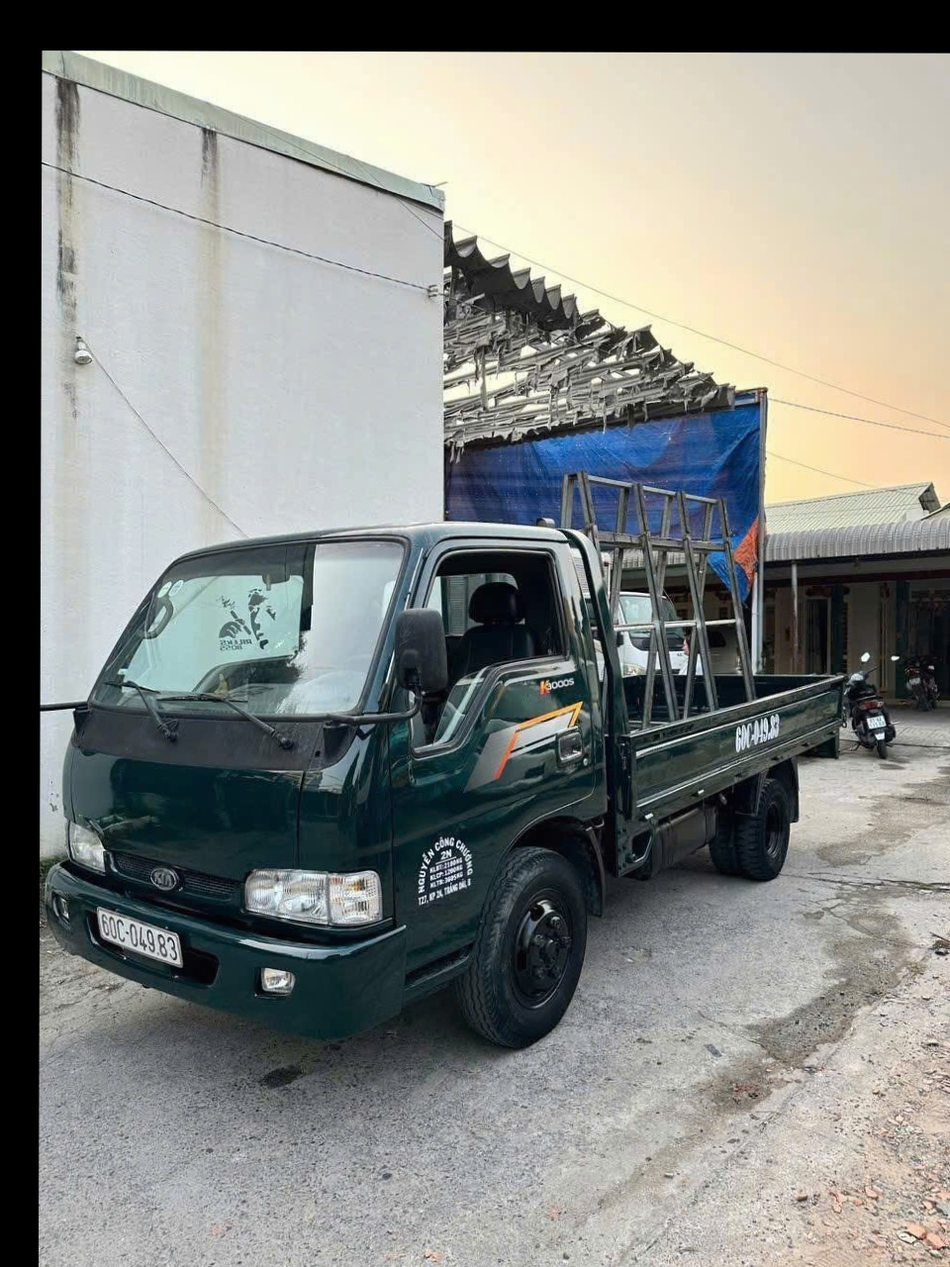Bien-so: (77, 901, 188, 974)
